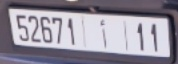1: (135, 21, 147, 53), (149, 22, 160, 52), (67, 16, 76, 46)
2: (29, 15, 39, 41)
5: (15, 14, 28, 41)
6: (39, 15, 51, 43)
7: (50, 17, 64, 45)
a: (98, 18, 109, 49)
